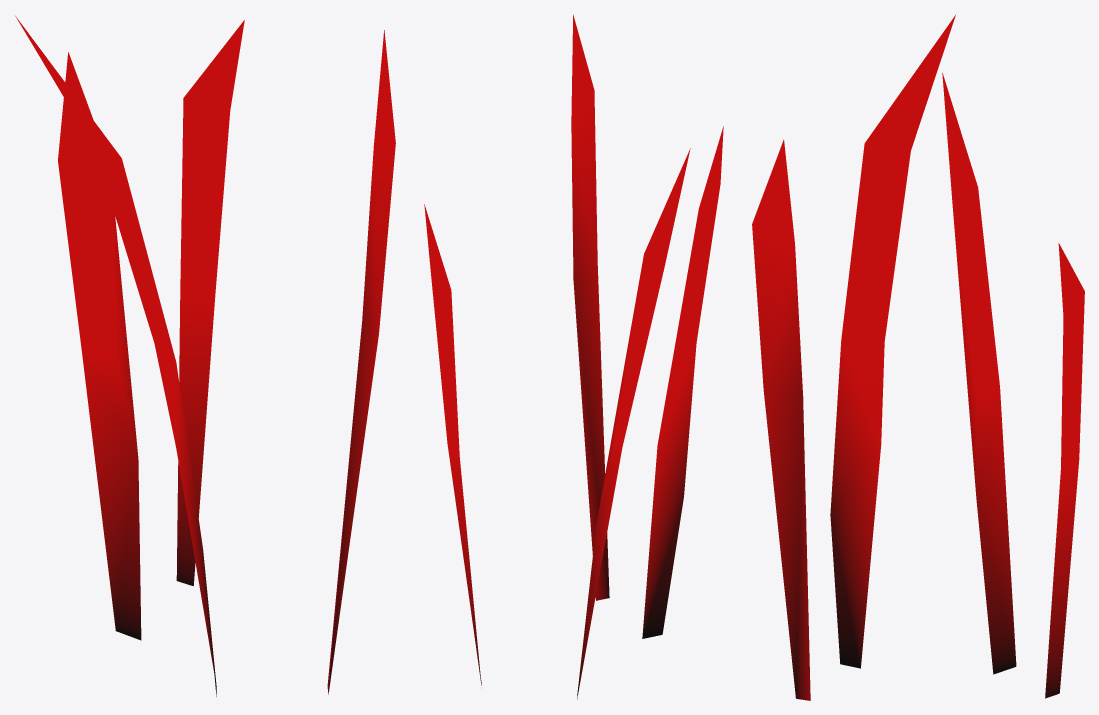
Rendered from Reeds2.fbx.
The picture shows the model from 3 angles, left to right: view 1: azimuth 30°, elevation 25°; view 2: azimuth 150°, elevation 25°; view 3: azimuth 270°, elevation 25°; orthographic projection. The views are drawn at different scales.
Parts seen in each view (by area): view 1: Reeds2; view 2: Reeds2; view 3: Reeds2.
Boxes of the visible parts, box(x1,y1,x2,y2) form: Reeds2: box(15, 16, 395, 696); Reeds2: box(424, 14, 723, 699); Reeds2: box(752, 15, 1084, 700).
Size of the model in its own units: 44.97 by 101 by 50.99.
